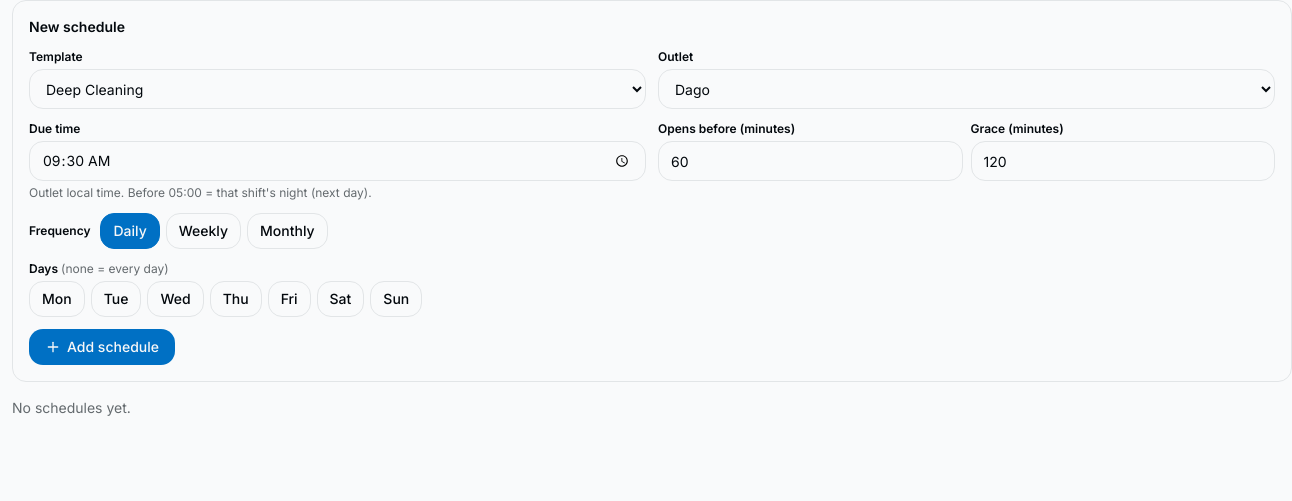
Test: OpsSchedulePanel frequency › a too-long window blocks saving with a reason
Click the radio button labelled "Monthly" at (287, 231), box 247,213 -> 328,249
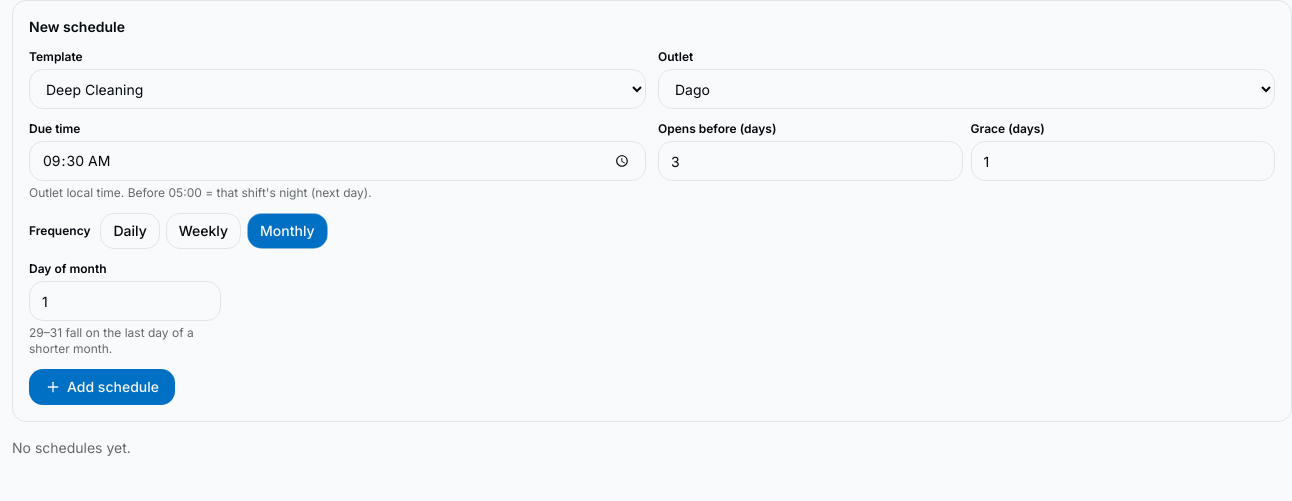
Replace the text in the number field labelled "Opens before (days)" with "30" at (810, 161), box 658,141 -> 962,181
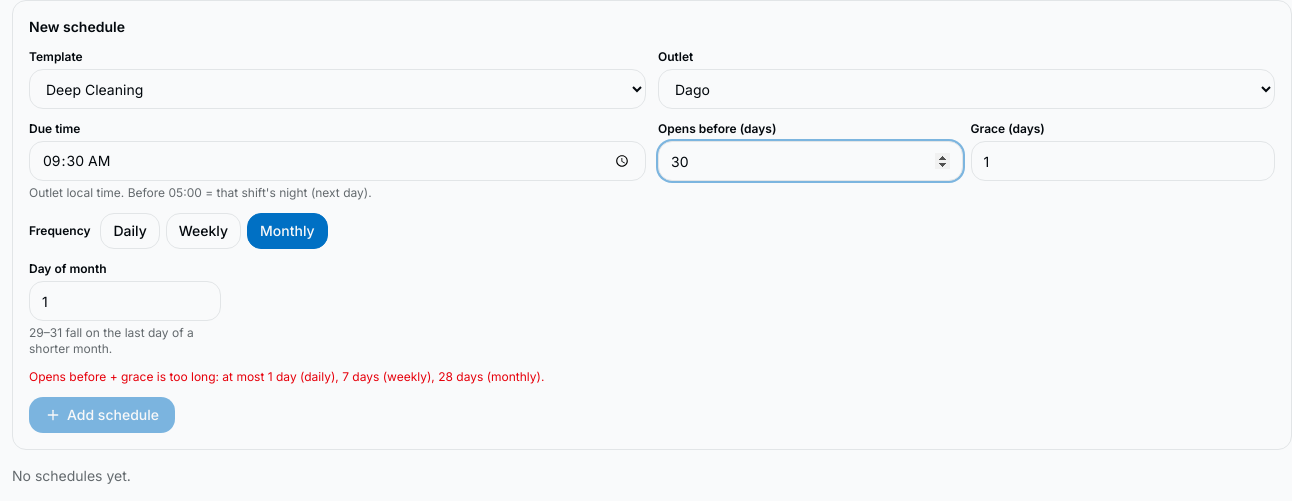
expect the message shows "too long": met, box 29,369 -> 544,384
expect the button "Add schedule" is disabled: met, box 29,397 -> 175,433
